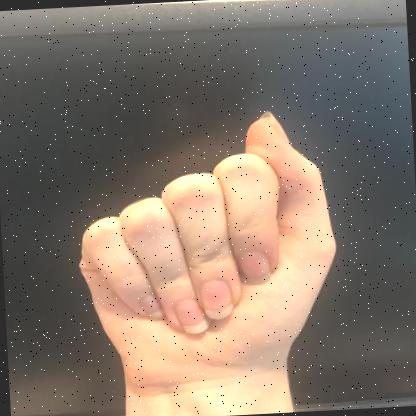A: (77, 107, 338, 408)
